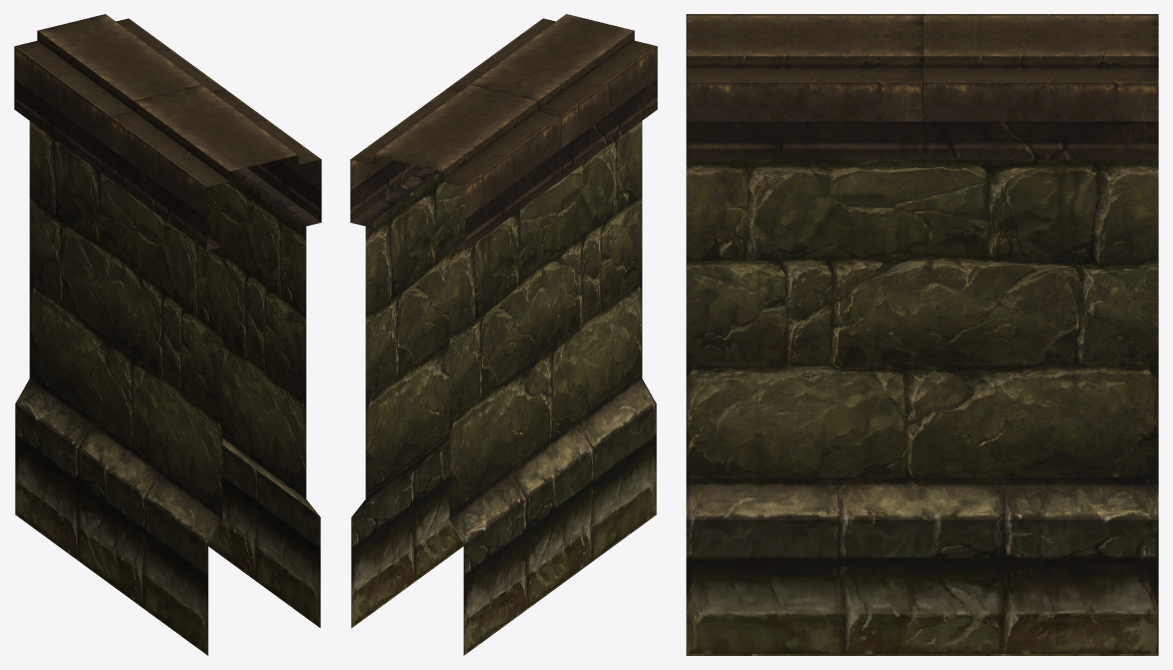
Rendered from Stage001_WALL_04.FBX.
3 views of the same model, side by side, from view 1: azimuth 30°, elevation 25°; view 2: azimuth 150°, elevation 25°; view 3: azimuth 270°, elevation 25° (orthographic). The views are drawn at different scales.
Visible parts, largest first — view 1: Stage001_WALL_04; view 2: Stage001_WALL_04; view 3: Stage001_WALL_04.
Boxes of the visible parts, <box> form: Stage001_WALL_04: <box>14,14,321,655</box>; Stage001_WALL_04: <box>350,14,657,655</box>; Stage001_WALL_04: <box>686,14,1158,655</box>.
Bounding box in the file's own units: 172 × 685 × 500.
1 material, 1 textured.
